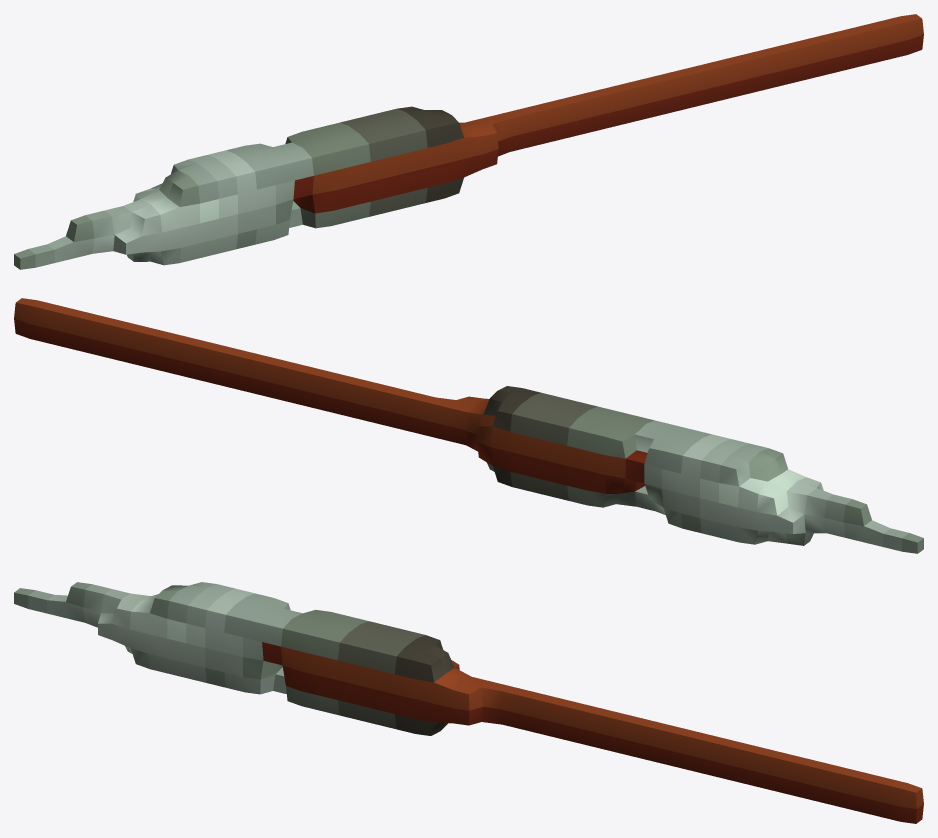
Rendered from Fight_106_2_12.obj.
3 renders of one model, top to bottom at view 1: azimuth 30°, elevation 25°; view 2: azimuth 150°, elevation 25°; view 3: azimuth 330°, elevation 25°, orthographic.
Bounding box in the file's own units: 4.76 × 0.4 × 0.3.
1 material, 1 textured.
